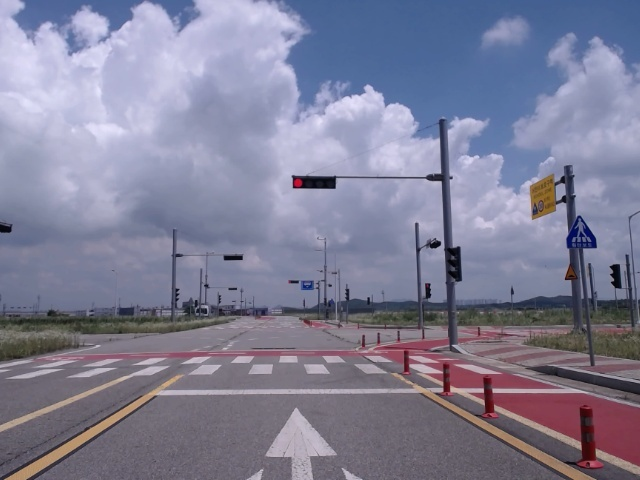red_4: (293, 176, 336, 190)
